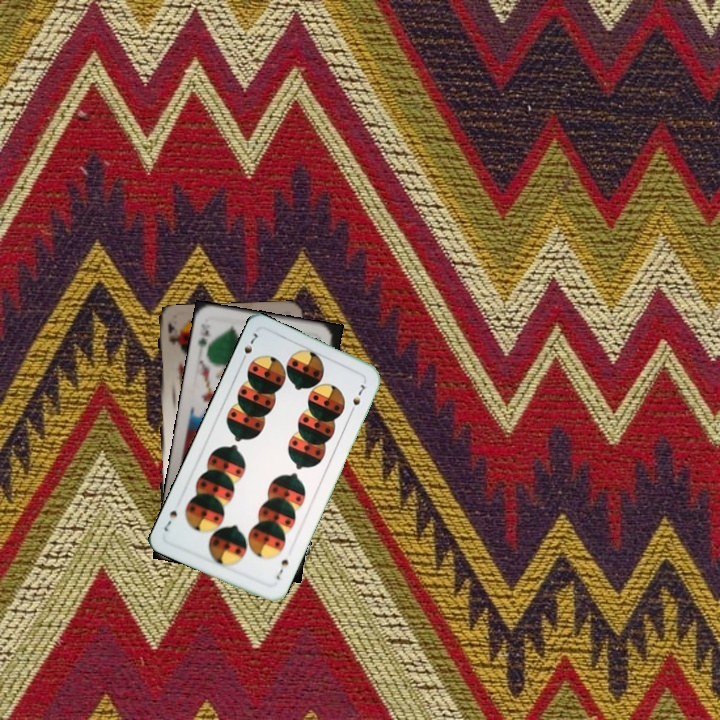GK: (194, 320, 214, 351)
S7: (237, 329, 261, 366), (272, 555, 291, 582)
SK: (164, 320, 178, 347)
